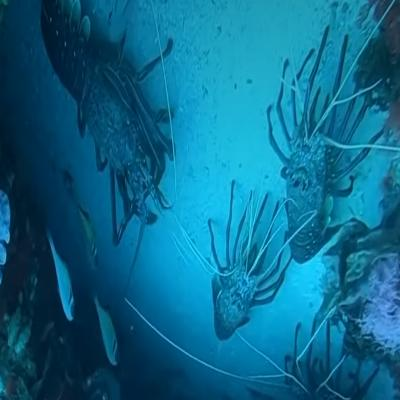lobster: (59, 18, 173, 213), (283, 71, 337, 263), (211, 206, 270, 342)
